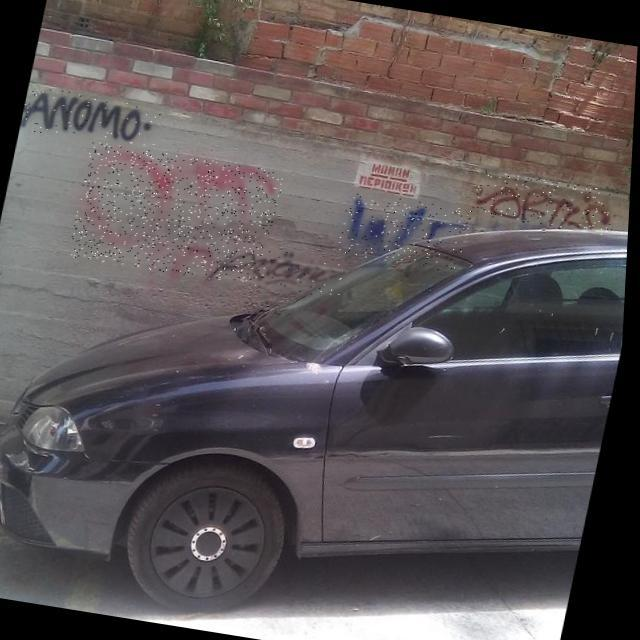-: (70, 142, 288, 288), (339, 190, 475, 274), (472, 170, 622, 237), (20, 85, 164, 151), (208, 240, 354, 302)
